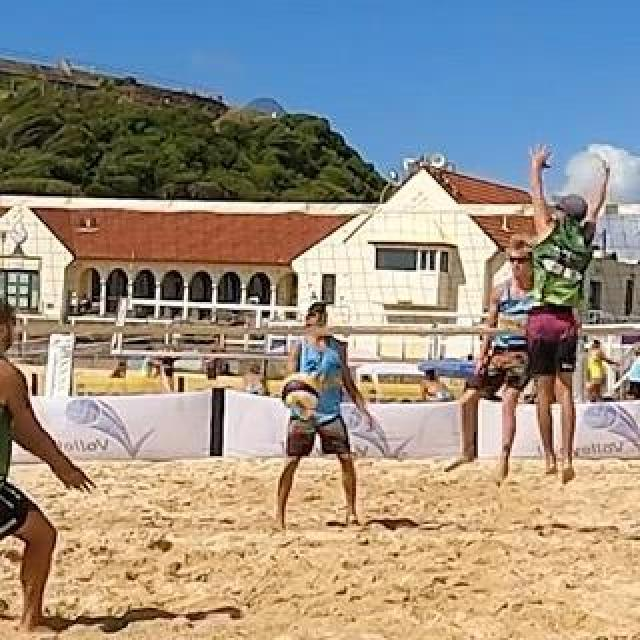volleyball: (281, 373, 319, 413)
